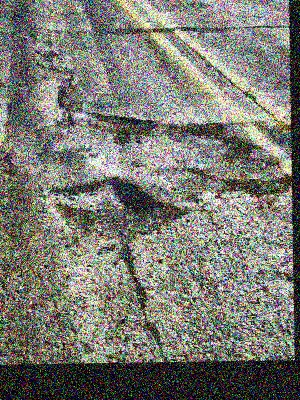pothole: (42, 174, 186, 246), (220, 171, 292, 199), (86, 110, 160, 136), (180, 119, 228, 137)
